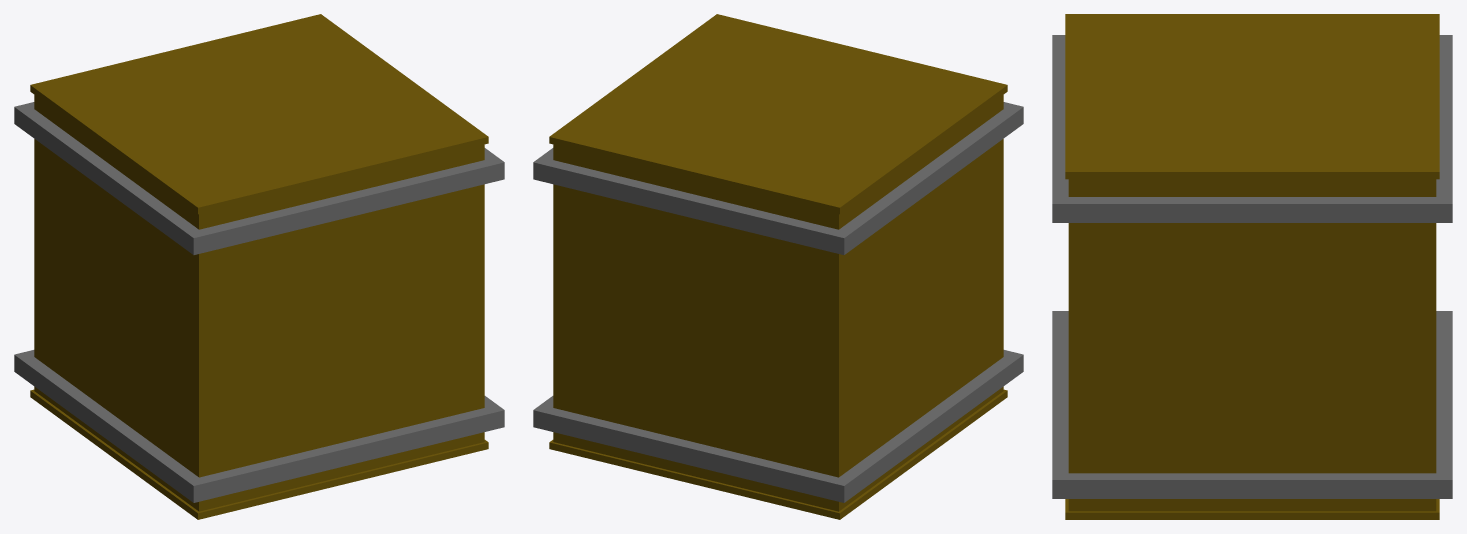
File: BoxSealed.fbx
The picture shows the model from 3 angles, left to right: view 1: azimuth 30°, elevation 25°; view 2: azimuth 150°, elevation 25°; view 3: azimuth 270°, elevation 25°; orthographic projection. The views are drawn at different scales.
Visible parts, largest first — view 1: pCube1; view 2: pCube1; view 3: pCube1.
Part boxes in pixels (bbox=[...]): pCube1: bbox=[14, 14, 504, 519]; pCube1: bbox=[533, 14, 1023, 519]; pCube1: bbox=[1052, 14, 1452, 519].
Bounding box in the file's own units: 12.25 × 11.74 × 12.25.
